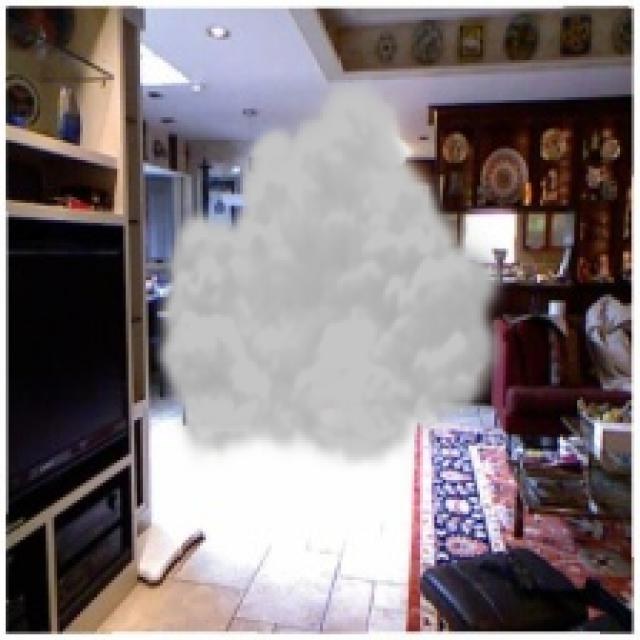smoke: (149, 66, 514, 471)
